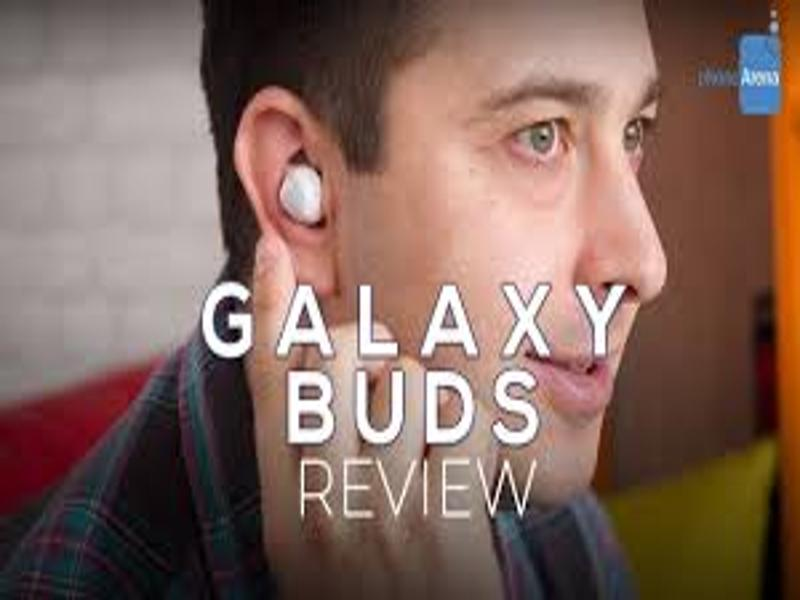headphone: (275, 164, 326, 224)
